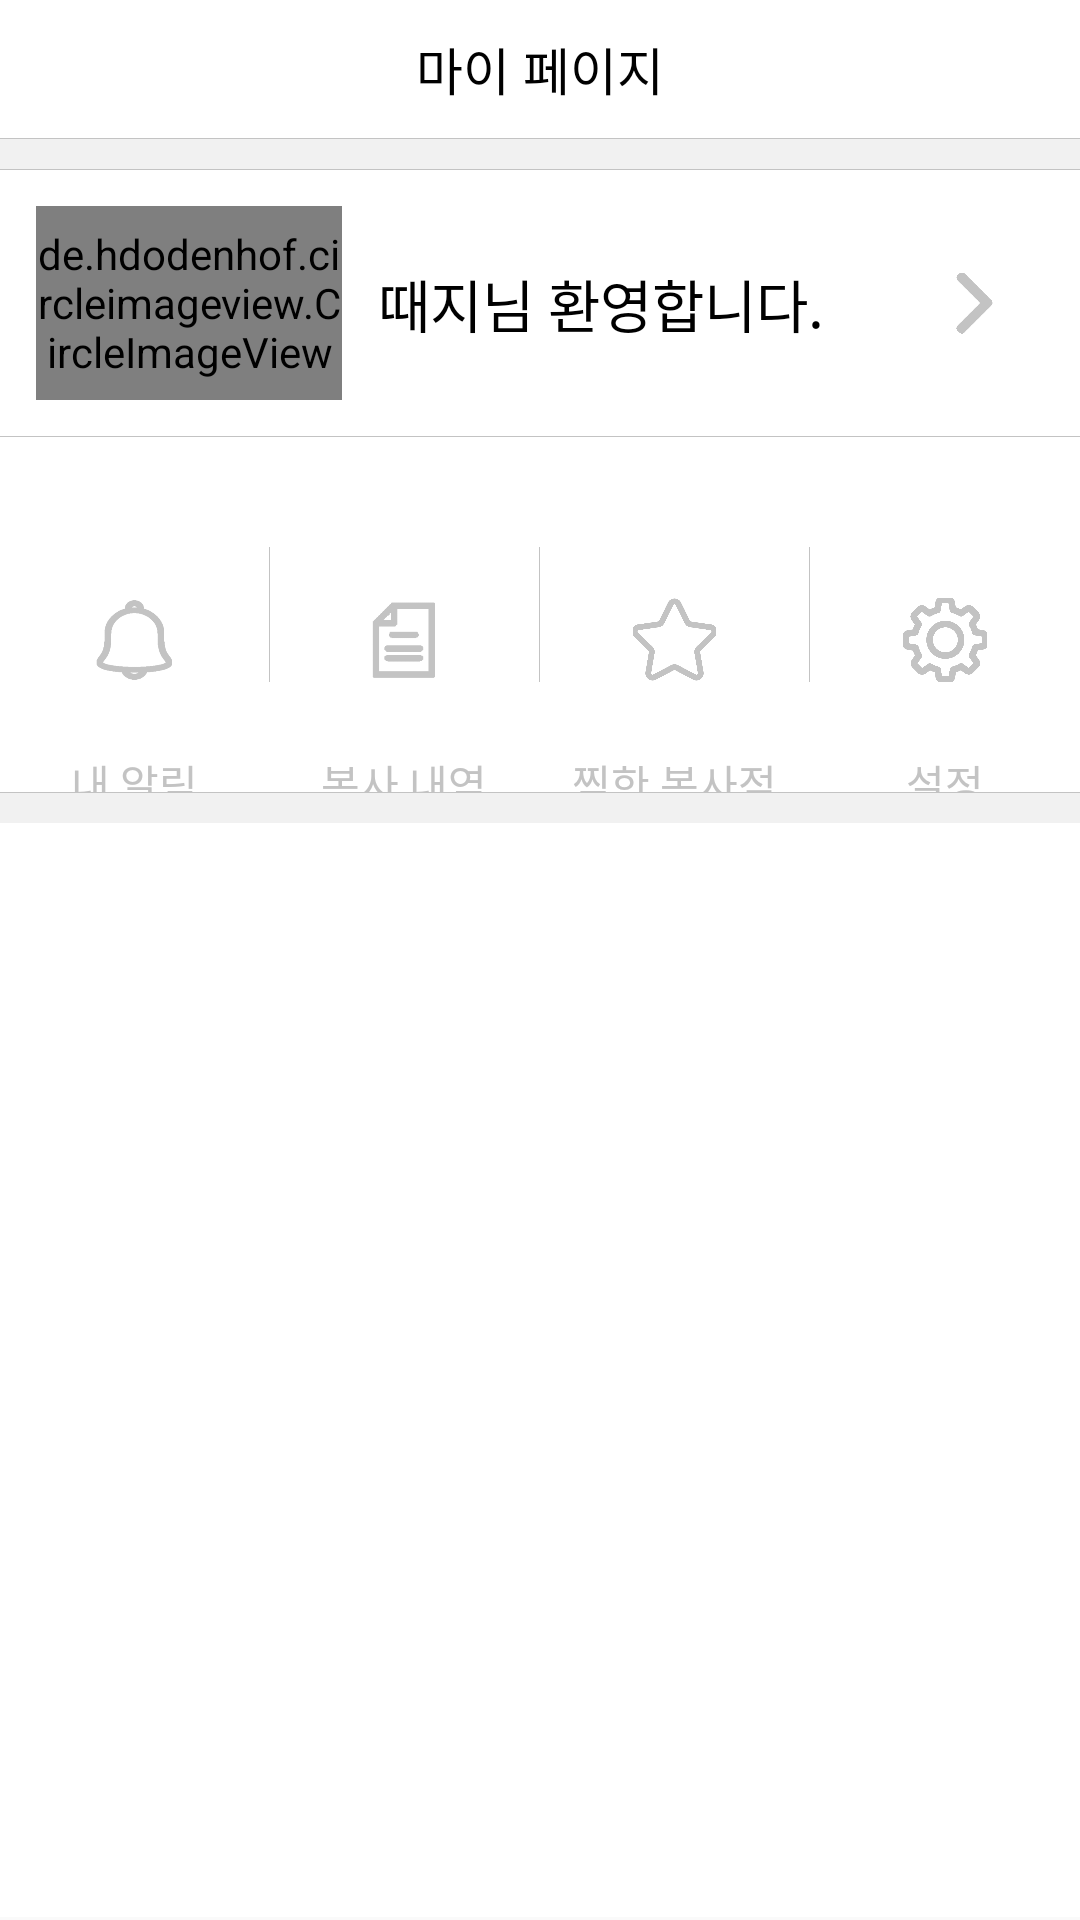

Screen size 1080px×1920px. Icon name, then its center in pixels as (x,y):
alarm: (134,640)
right arrow: (974,303)
setting: (945,640)
star: (674,639)
